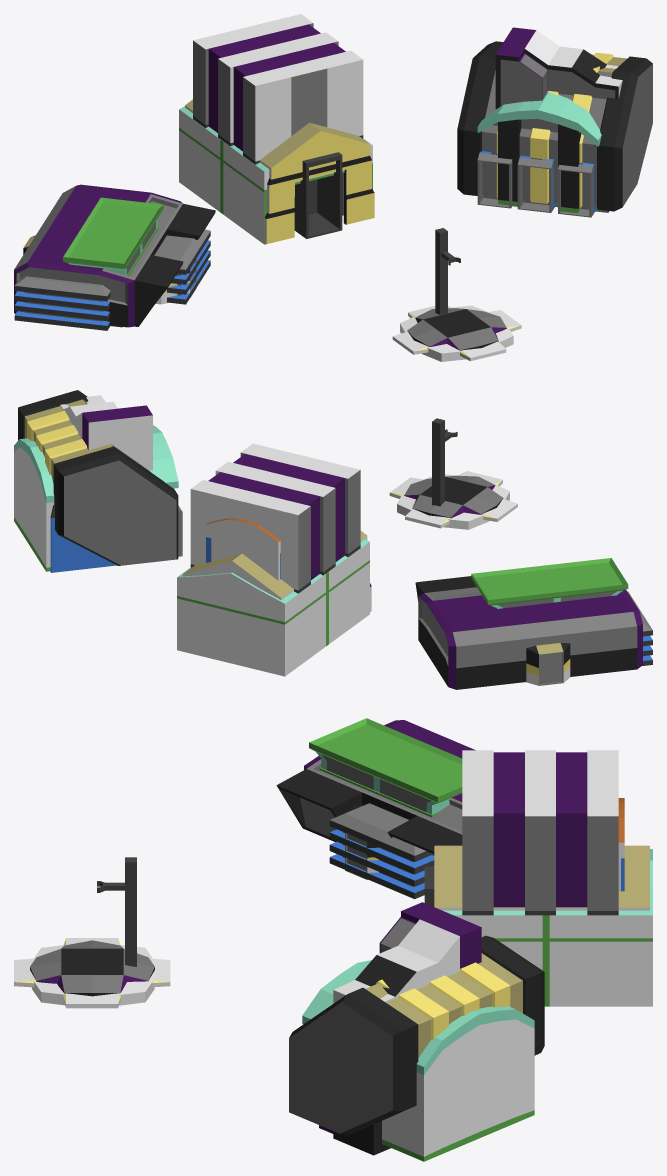
3 renders of one model, top to bottom at view 1: azimuth 30°, elevation 25°; view 2: azimuth 150°, elevation 25°; view 3: azimuth 270°, elevation 25°, orthographic. The views are drawn at different scales.
Visible parts, largest first — view 1: Angar_4, Base_3, Missions_4, Angar_3, angar_2, Missions_1, Base_4, Base_2, Missions_2, Cube.003, Base_1, Cube.002 (+2 smaller); view 2: Missions_4, Angar_4, angar_2, Base_3, Missions_2, Base_2, Base_4, Angar_1, Cube.003, Angar_3, Base_1, missinons_3 (+4 smaller); view 3: Angar_4, Base_3, Base_2, angar_2, Missions_2, Base_4, Missions_4, Missions_1, Cube.003, Angar_3, Cube.002, Cube (+2 smaller).
Boxes of the visible parts, bbox=[...] form: Angar_4: bbox=[193, 14, 363, 238]; Base_3: bbox=[457, 41, 652, 211]; Missions_4: bbox=[14, 184, 215, 327]; Angar_3: bbox=[185, 99, 374, 244]; angar_2: bbox=[179, 106, 372, 244]; Missions_1: bbox=[14, 229, 210, 330]; Base_4: bbox=[495, 27, 622, 212]; Base_2: bbox=[477, 92, 601, 213]; Missions_2: bbox=[63, 197, 163, 327]; Cube.003: bbox=[407, 308, 506, 350]; Base_1: bbox=[477, 151, 595, 217]; Cube.002: bbox=[392, 306, 521, 361]; Missions_4: bbox=[415, 576, 642, 689]; Angar_4: bbox=[190, 443, 360, 593]; angar_2: bbox=[177, 539, 369, 676]; Base_3: bbox=[18, 390, 178, 565]; Missions_2: bbox=[471, 558, 628, 608]; Base_2: bbox=[14, 425, 178, 571]; Base_4: bbox=[60, 395, 152, 470]; Angar_1: bbox=[206, 518, 280, 580]; Cube.003: bbox=[404, 475, 503, 518]; Angar_3: bbox=[183, 531, 371, 611]; Base_1: bbox=[50, 505, 182, 572]; missinons_3: bbox=[525, 643, 570, 685]; Angar_4: bbox=[424, 750, 618, 915]; Base_3: bbox=[289, 935, 544, 1135]; Base_2: bbox=[302, 960, 534, 1161]; angar_2: bbox=[443, 849, 652, 1006]; Missions_2: bbox=[309, 718, 462, 817]; Base_4: bbox=[319, 902, 481, 1155]; Missions_4: bbox=[276, 720, 475, 855]; Missions_1: bbox=[329, 803, 434, 899]; Cube.003: bbox=[30, 940, 154, 996]; Angar_3: bbox=[434, 845, 649, 910]; Cube.002: bbox=[14, 938, 170, 1008]; Cube: bbox=[32, 944, 154, 1005].
Bounding box in the file's own units: 1179 × 279 × 818.
